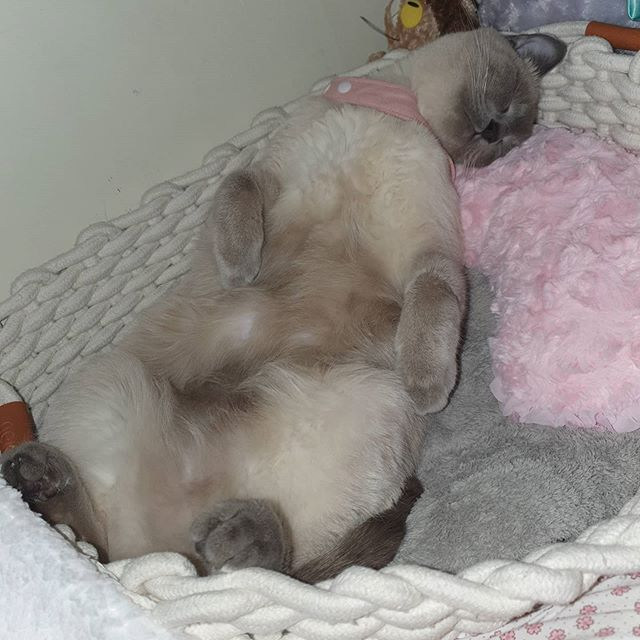cat: (406, 16, 567, 177)
